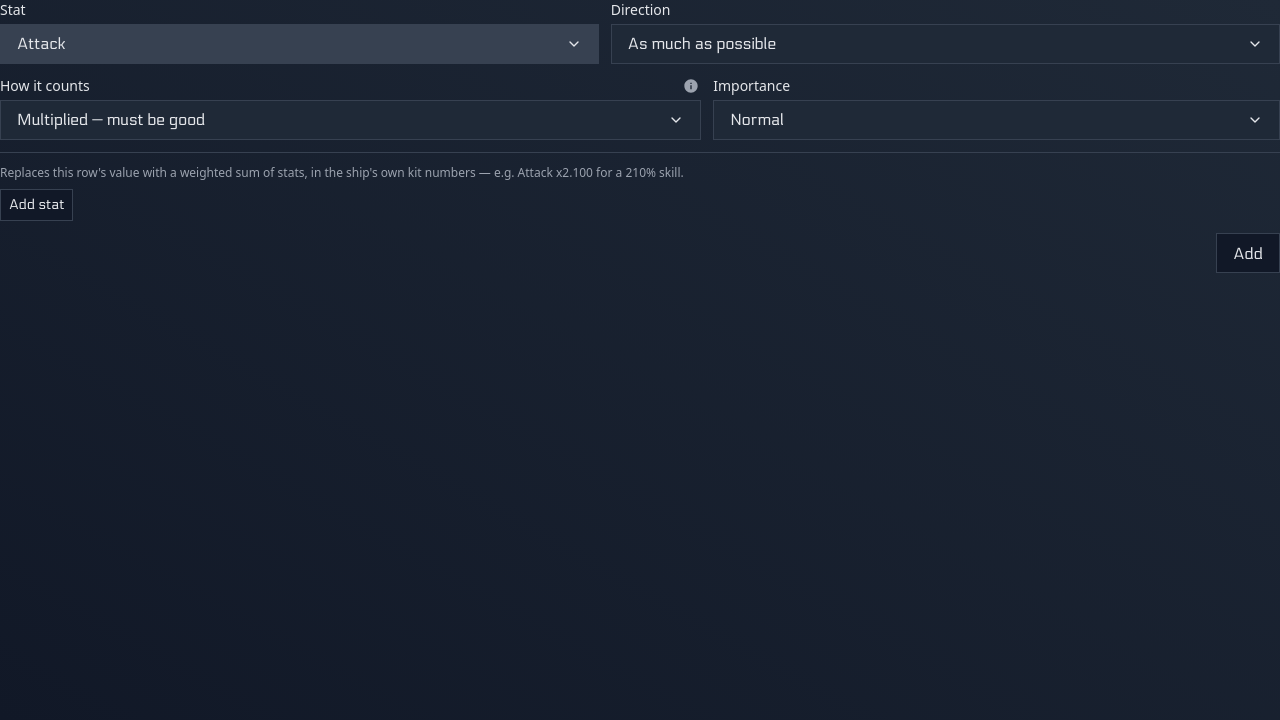
Test: CustomFormulaForm › rejects a negative bonus weight instead of submitting it
Click the label labelled "How it counts" at (45, 86), box [0,76,701,96]
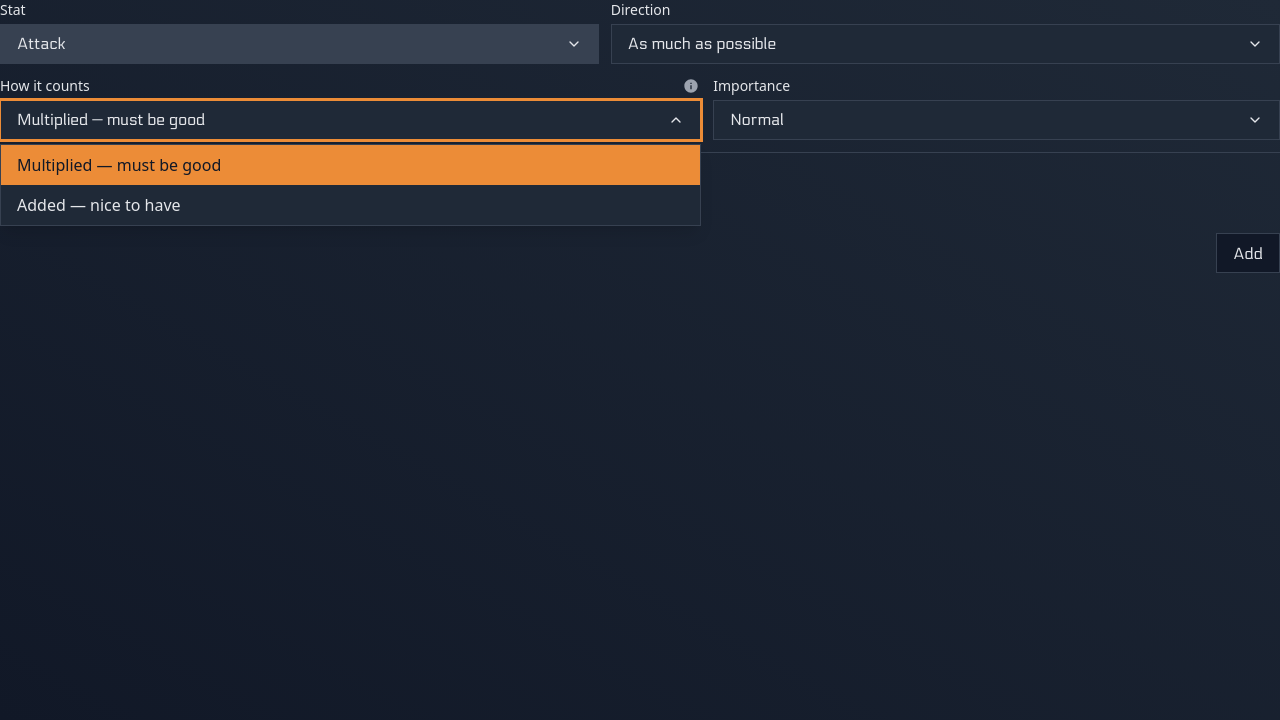
Click the option "Added — nice to have" at (99, 205), box [17,194,181,216]
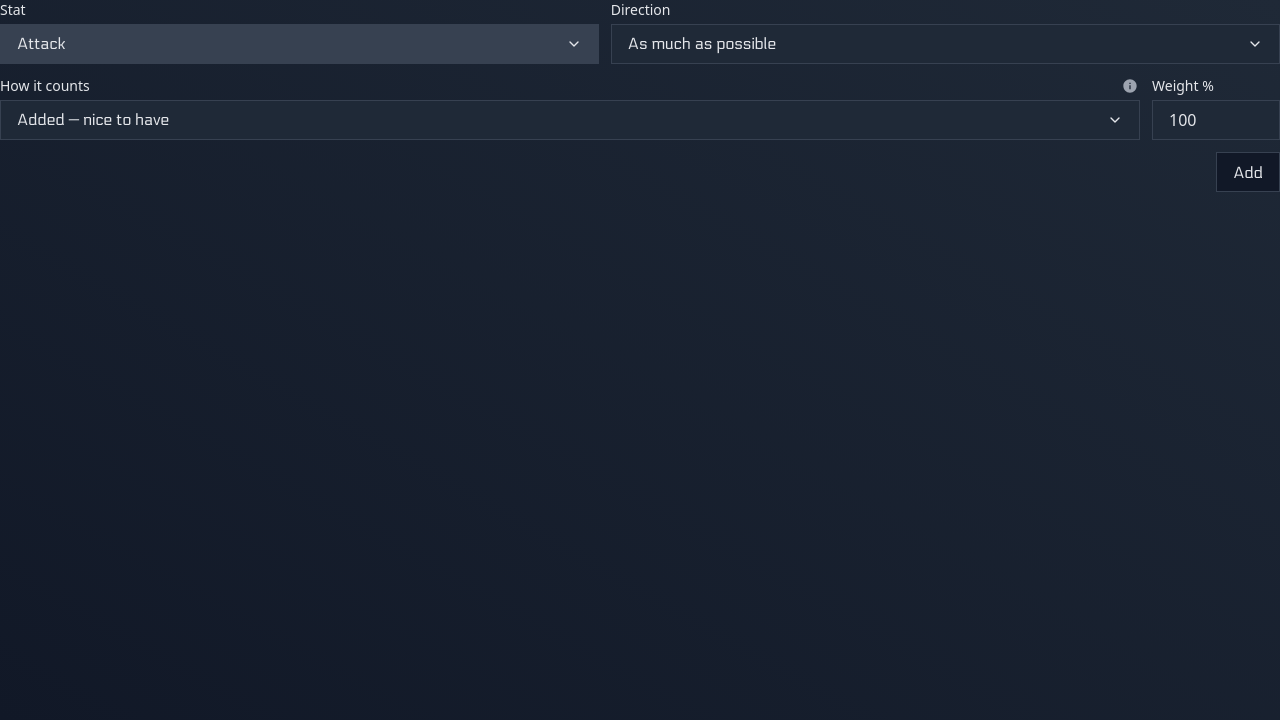
Type "-5" into the number field labelled "Weight %" at (1216, 120), box [1152,100,1279,140]
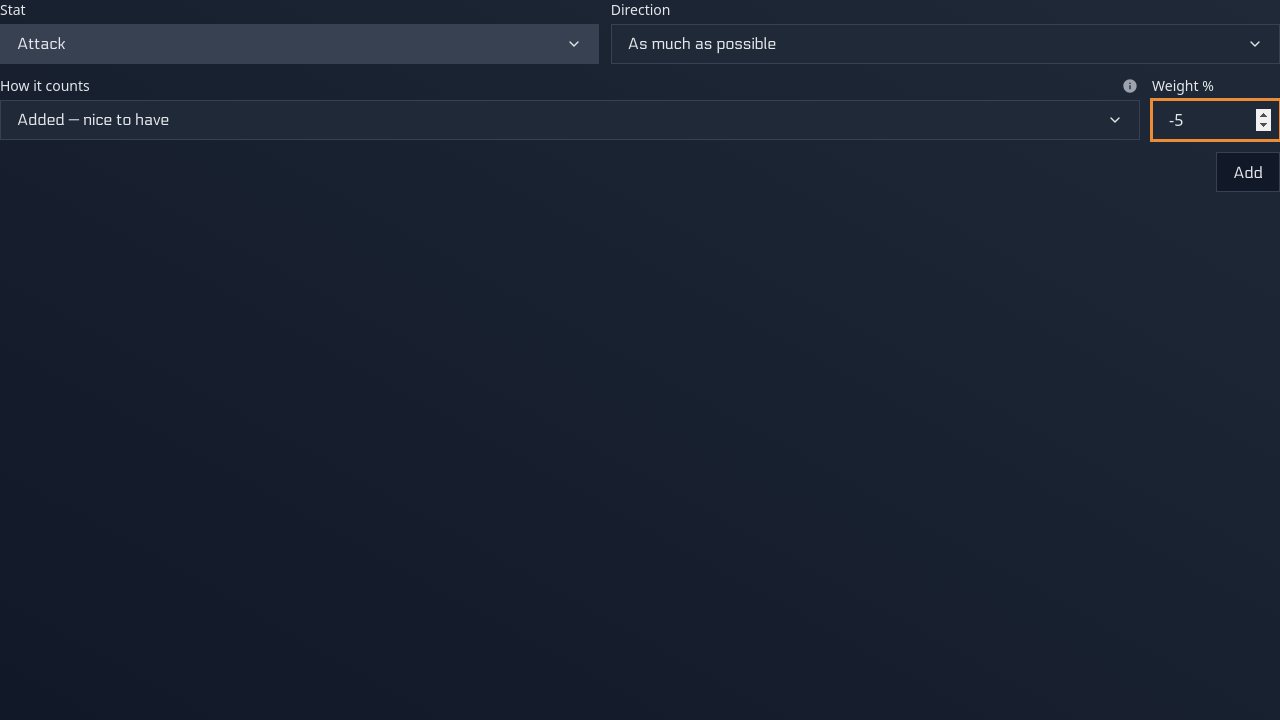
Click the button with aria-label "add formula stat" at (1248, 172), box [1216,152,1279,192]
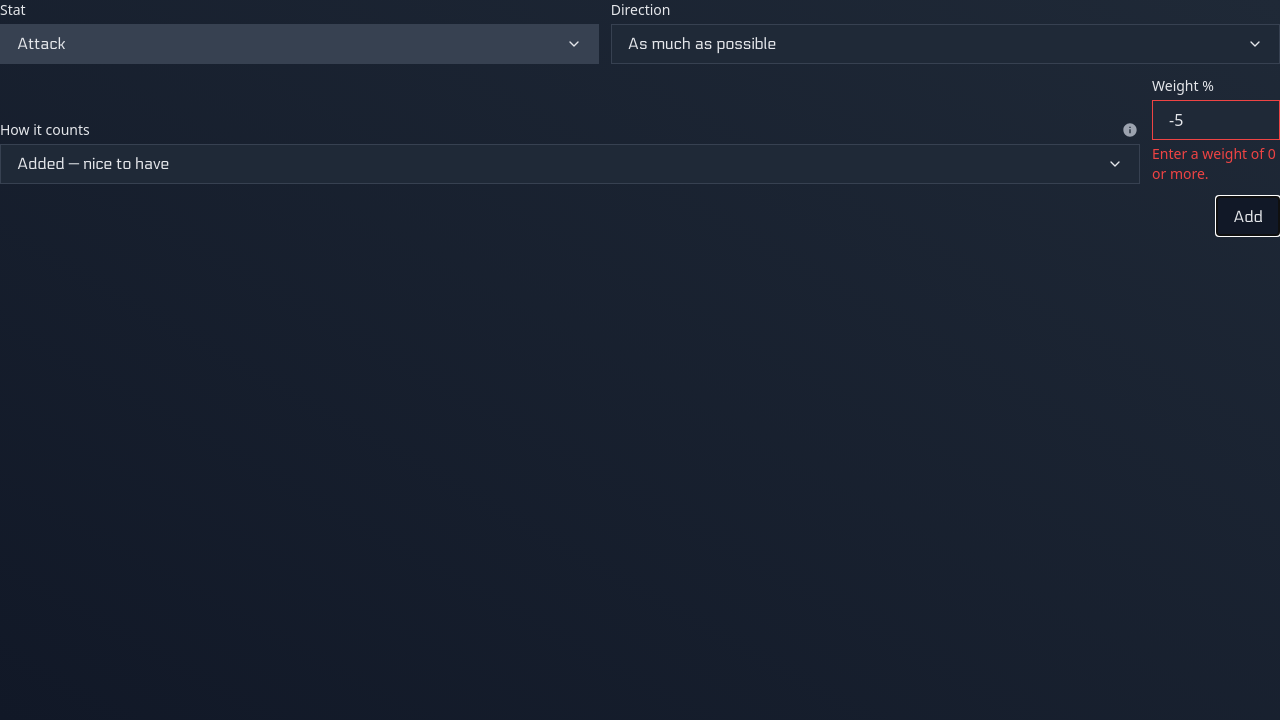
Result: the text "Enter a weight of 0 or more." is shown at [1152,144,1279,184]
